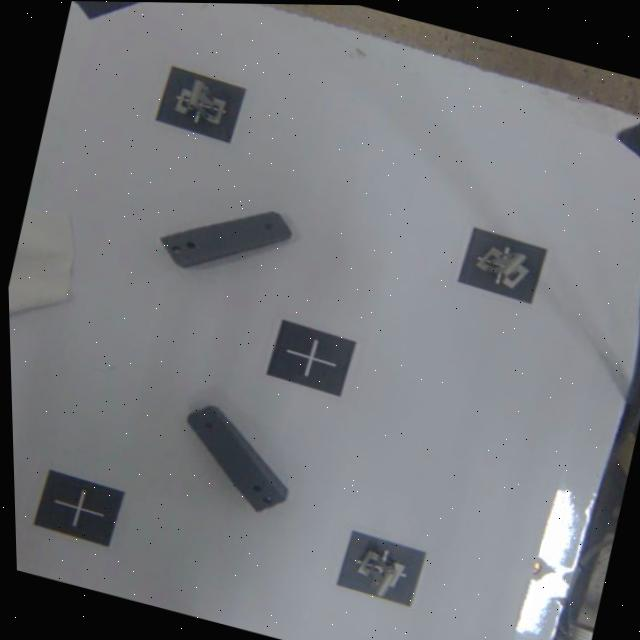pick1: (331, 527, 425, 607)
pick2: (454, 224, 544, 302)
pick5: (154, 64, 246, 140)
